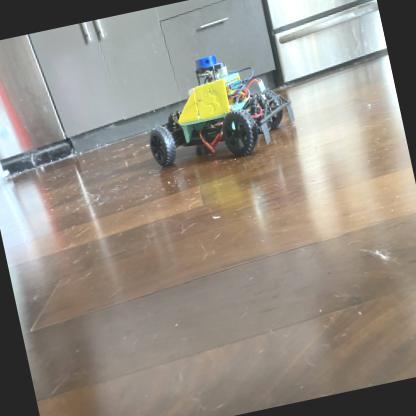mushr_car: (129, 39, 302, 178)
